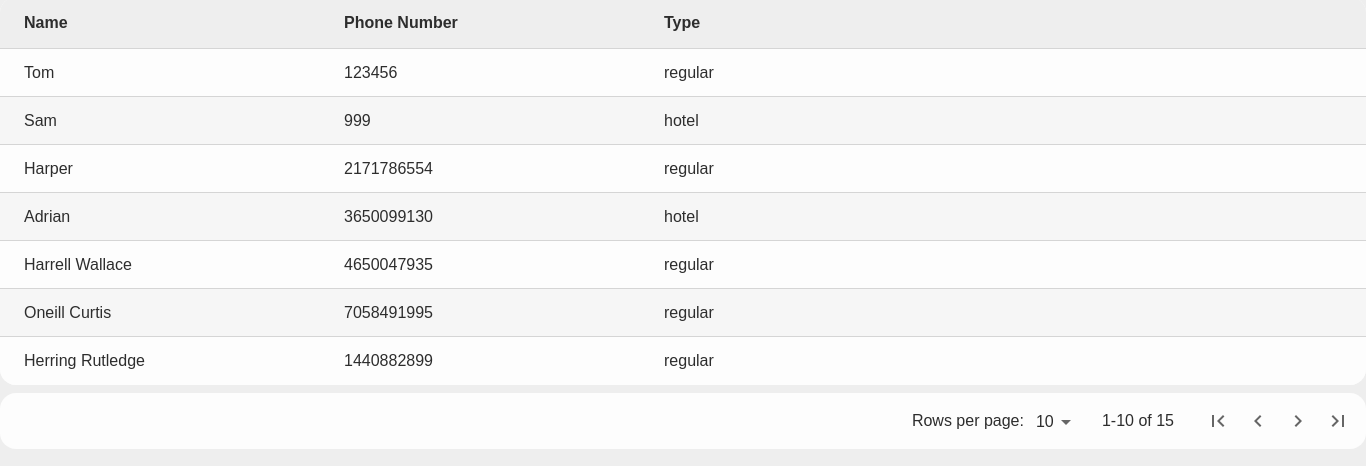
Test: Generic Table component › Table with pagination › should move to previous page to view previous set of rows
Step 1. Click the button named "Next Page" → [1298, 421], box [1278, 401, 1318, 441]
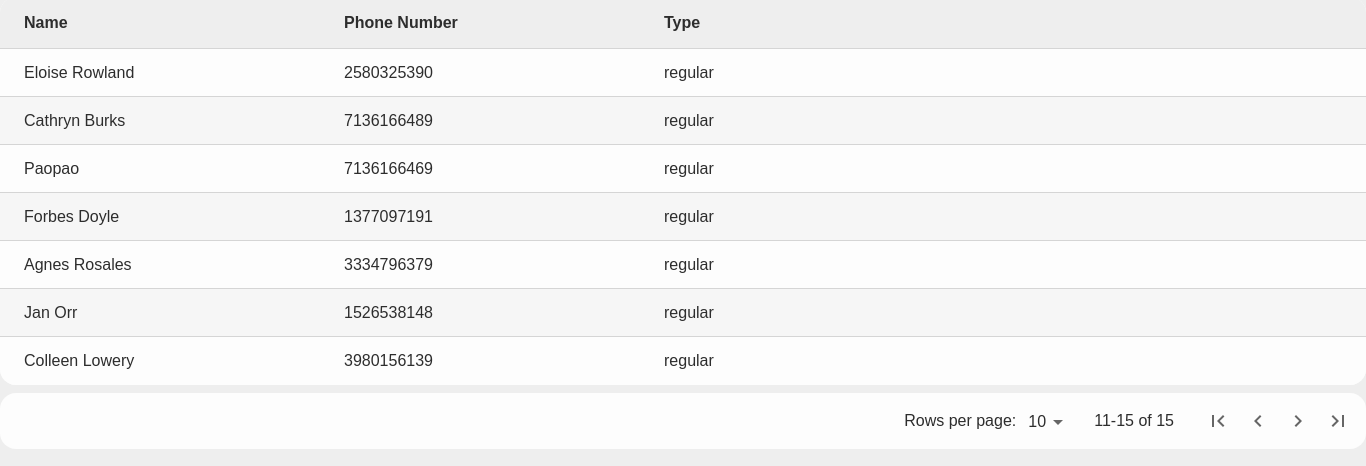
Step 2. Click the button named "Previous Page" → [1258, 421], box [1238, 401, 1278, 441]
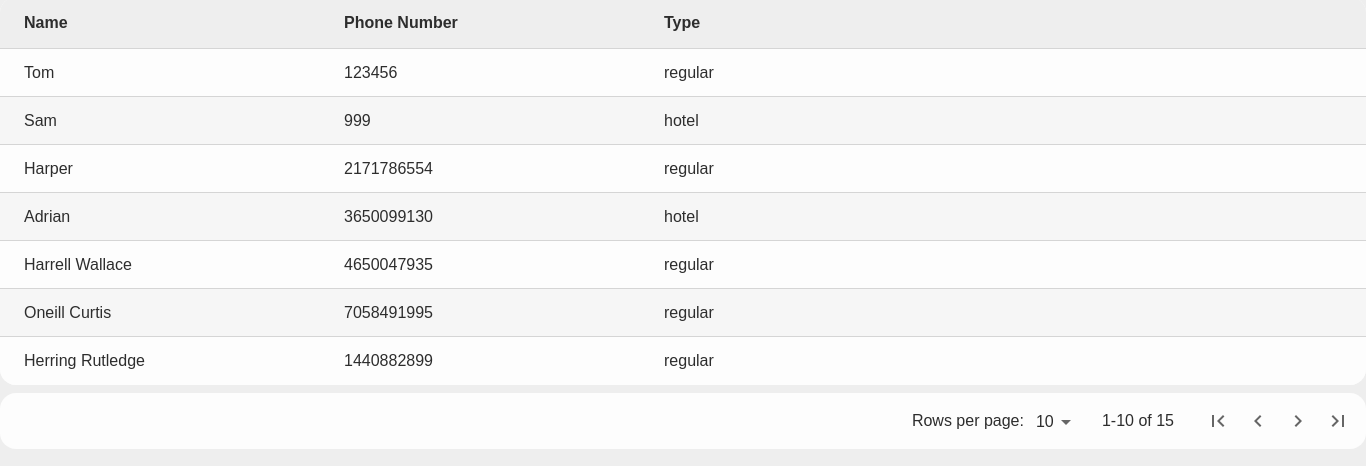
Check: the text "Tom" is shown, box [24, 64, 54, 80]
Check: the text "Sam" is shown, box [24, 112, 57, 128]
Check: the text "Harper" is shown, box [24, 160, 73, 176]
